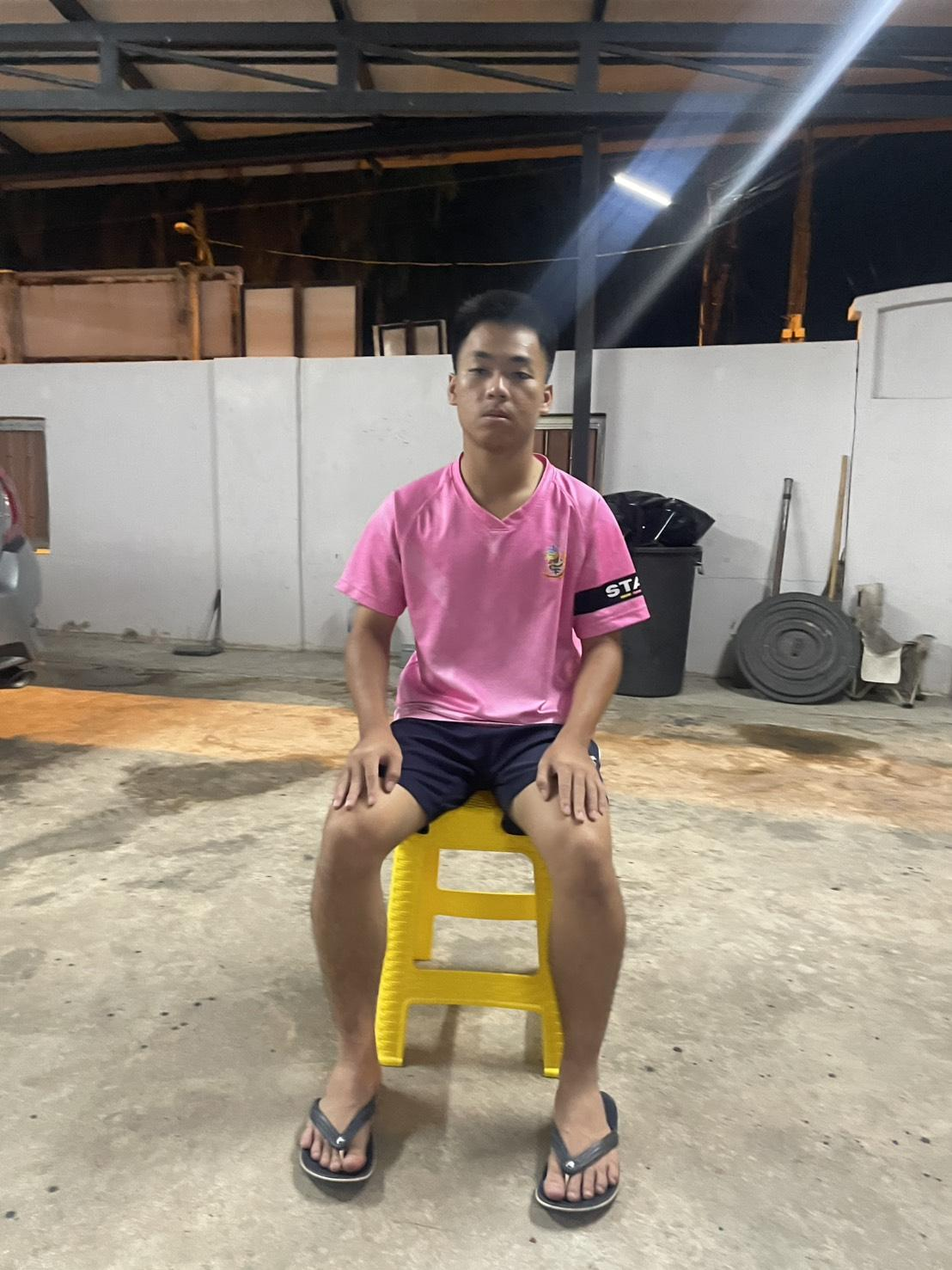GoodPosture: (300, 291, 649, 1218), (339, 291, 648, 727)
